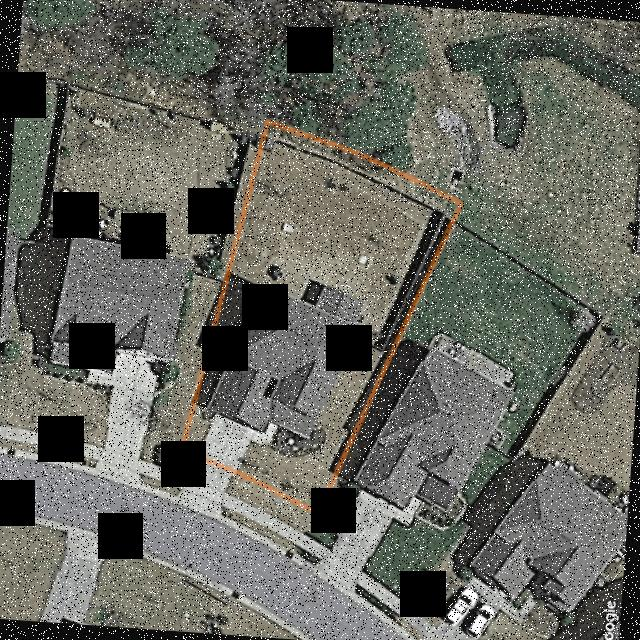Driveway: (198, 414, 254, 471)
Extra Driveway: (173, 459, 231, 520)
Extra Lawn: (224, 474, 317, 534), (220, 505, 299, 553), (174, 454, 197, 478), (168, 484, 180, 495)
Extra Sidewalk: (220, 494, 305, 544), (169, 471, 188, 489)
House: (205, 283, 360, 437)
Other: (313, 285, 361, 322)
Sidewalk: (251, 422, 276, 448)
